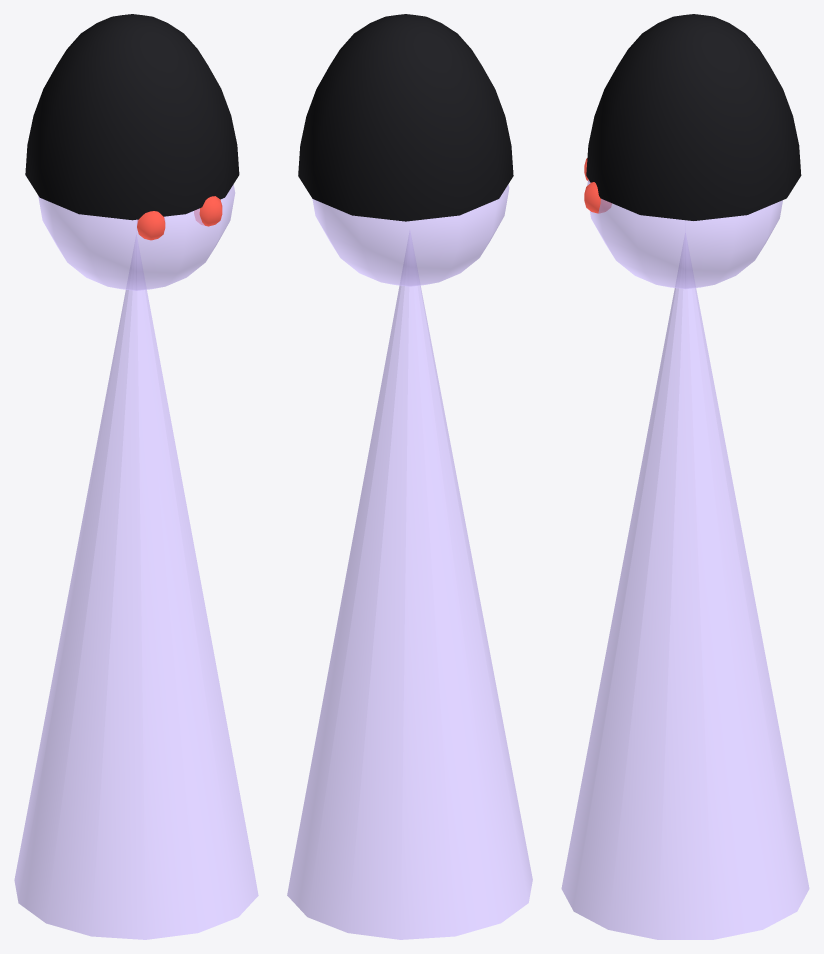
Rendered from pret.glb.
The picture shows the model from 3 angles, left to right: view 1: azimuth 30°, elevation 25°; view 2: azimuth 150°, elevation 25°; view 3: azimuth 270°, elevation 25°; orthographic projection.
Size of the model in its own units: 0.585 by 2.32 by 0.6.
